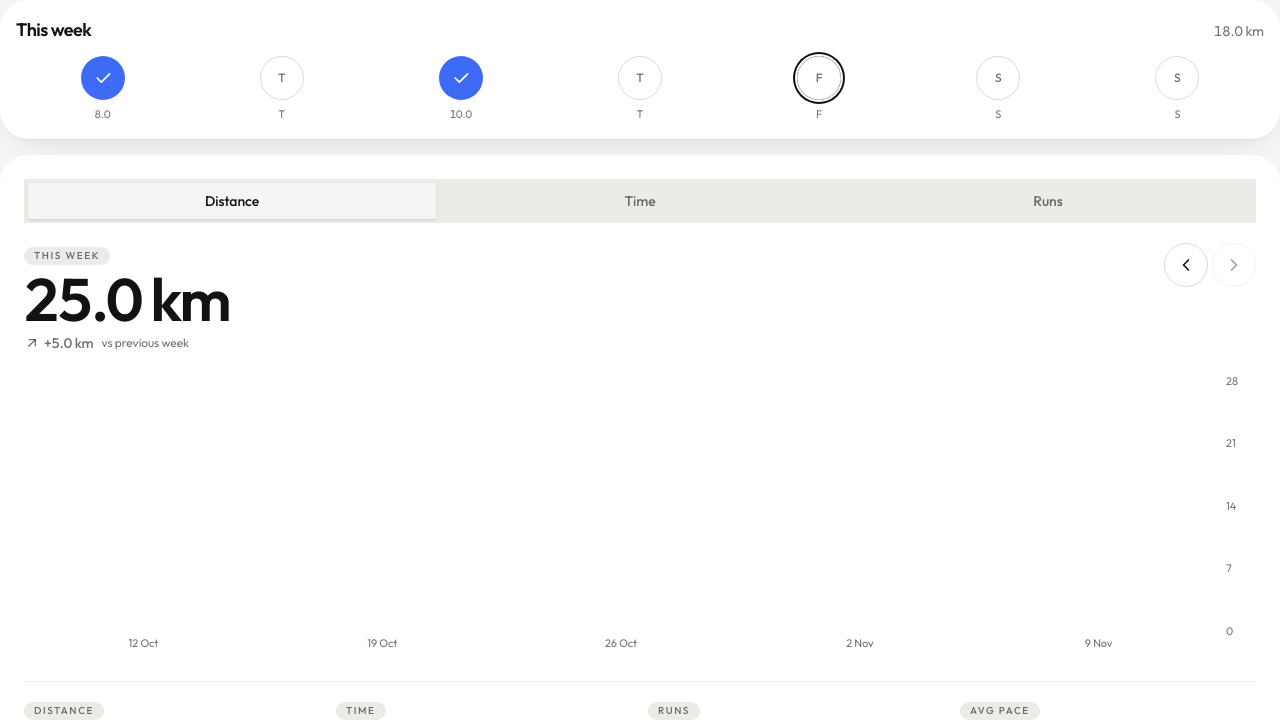
Test: ProgressHero › switches the headline to time and to runs
What coordinates should you click on to do the following:
click the tab with test id "hero-metric-time"
I would click on:
 (640, 200)
Its box is [436,182,844,218].
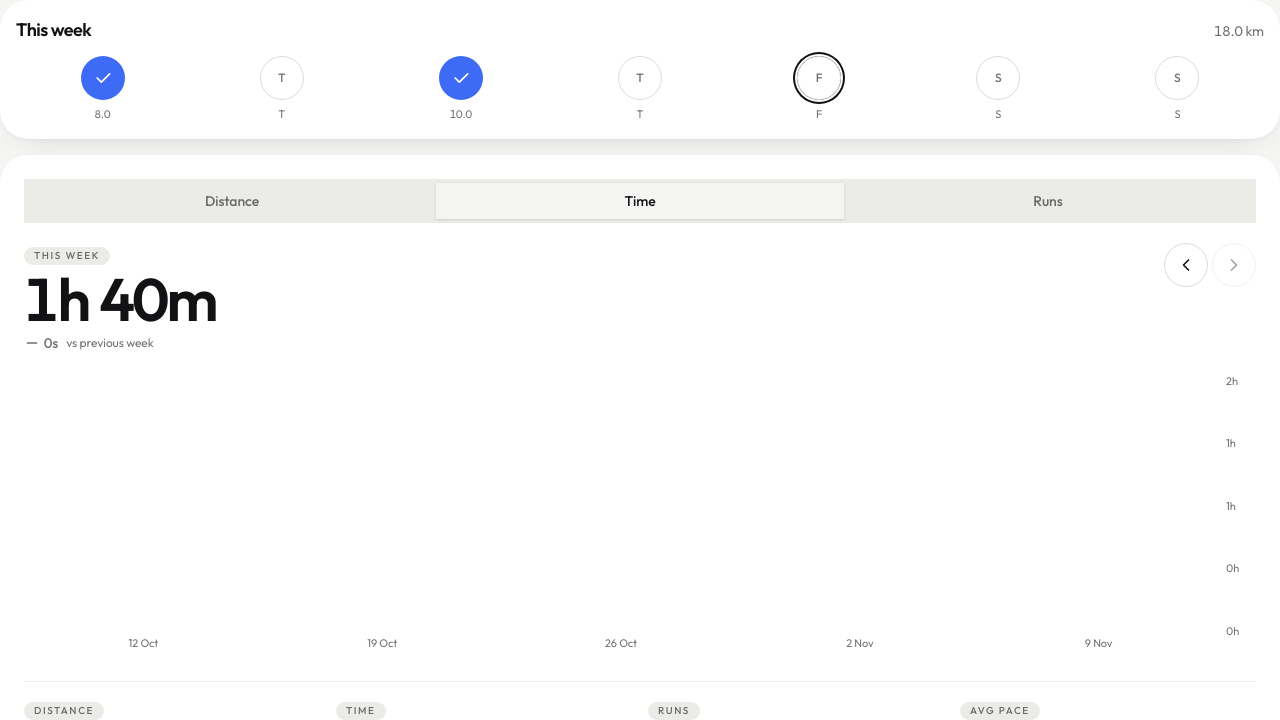
Result: the text with test id "hero-value" reads "1h 40m" at [24,260,217,336]
What coordinates should you click on to do the following:
click the tab with test id "hero-metric-runs"
I would click on:
 (1048, 200)
Its box is [844,182,1252,218].
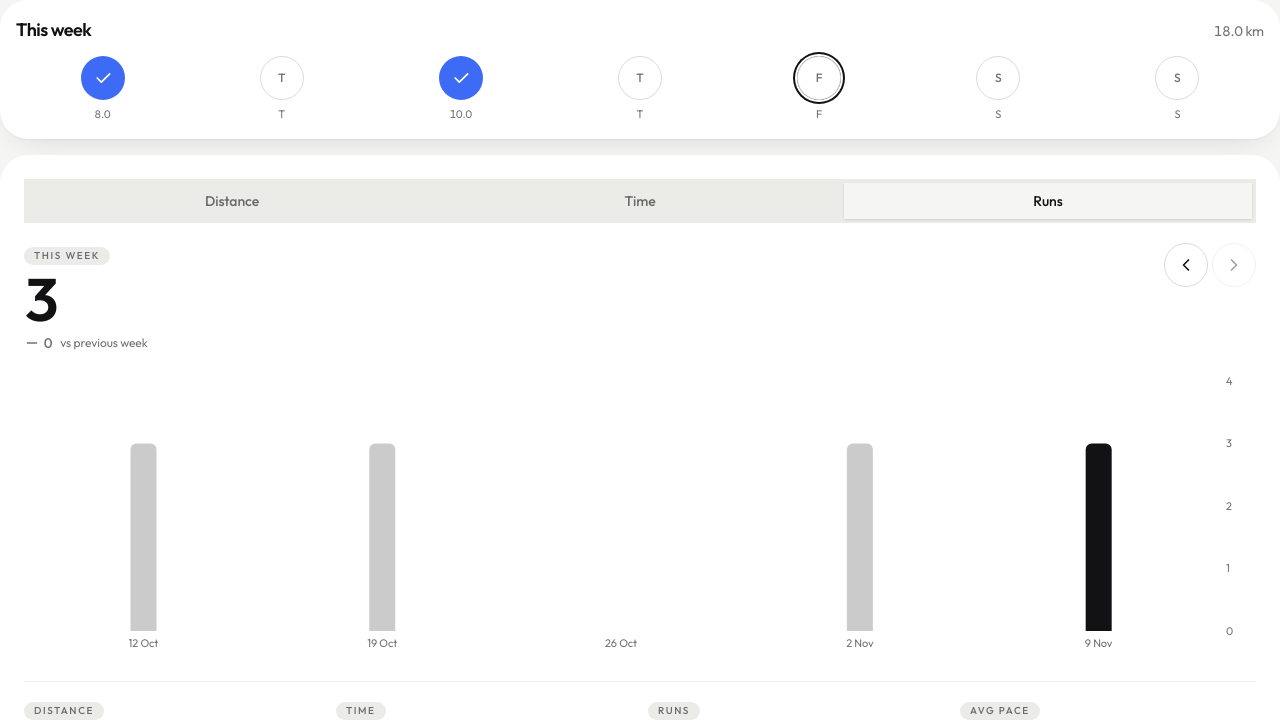
Result: the text with test id "hero-value" reads "3" at [24,260,58,336]
